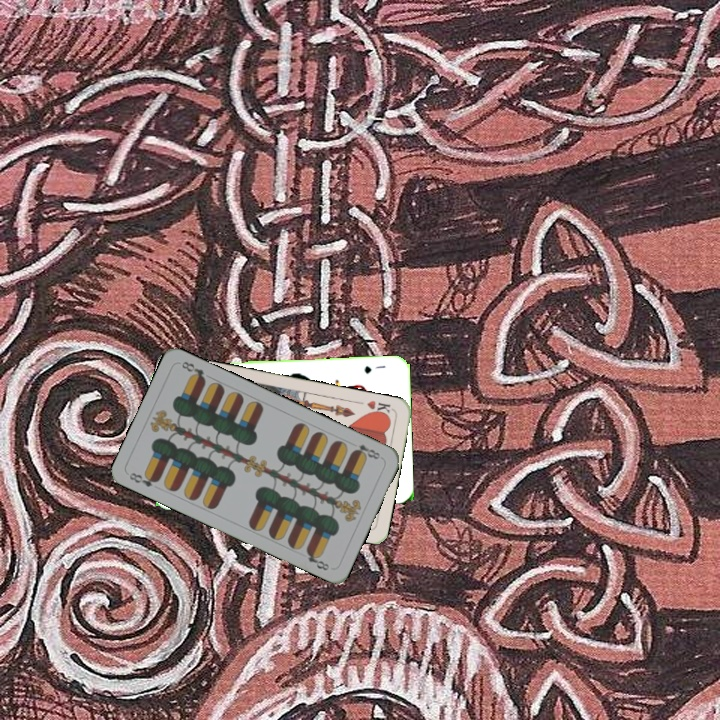E8: (125, 468, 162, 490), (349, 440, 385, 462)
GU: (360, 361, 388, 376)
HK: (363, 396, 393, 419)
